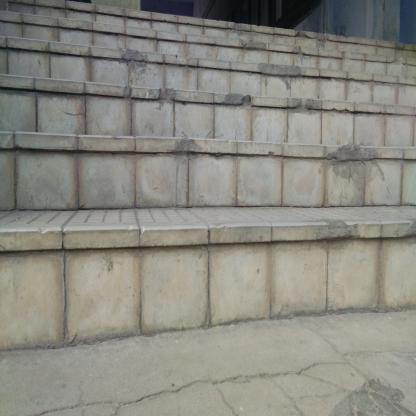stairs: (3, 28, 416, 318)
